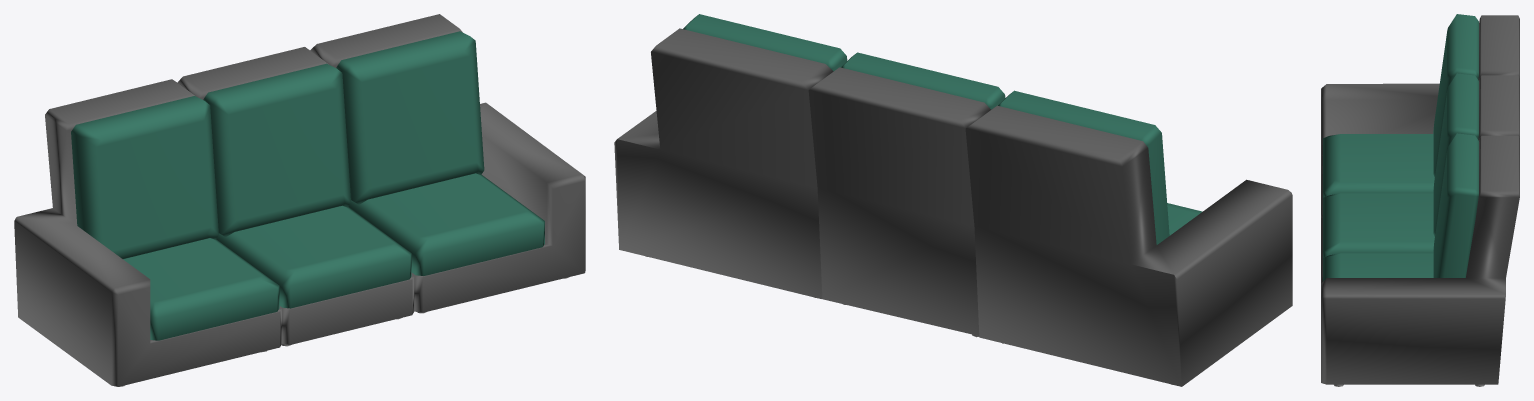
Rendered from mesh_sofa.fbx.
The picture shows the model from 3 angles, left to right: view 1: azimuth 30°, elevation 25°; view 2: azimuth 150°, elevation 25°; view 3: azimuth 270°, elevation 25°; orthographic projection. The views are drawn at different scales.
Parts seen in each view (by area): view 1: mesh_furniture_sofa_left_01, mesh_furniture_sofa_right_01, mesh_furniture_sofa_mid_01; view 2: mesh_furniture_sofa_left_01, mesh_furniture_sofa_right_01, mesh_furniture_sofa_mid_01; view 3: mesh_furniture_sofa_right_01, mesh_furniture_sofa_left_01, mesh_furniture_sofa_mid_01.
Part boxes in pixels (x1,y1,x2,y2): mesh_furniture_sofa_left_01: [14, 79, 281, 386]; mesh_furniture_sofa_right_01: [310, 14, 585, 313]; mesh_furniture_sofa_mid_01: [177, 47, 414, 346]; mesh_furniture_sofa_left_01: [965, 90, 1292, 386]; mesh_furniture_sofa_right_01: [614, 14, 847, 298]; mesh_furniture_sofa_mid_01: [808, 52, 1005, 337]; mesh_furniture_sofa_right_01: [1321, 133, 1519, 386]; mesh_furniture_sofa_left_01: [1321, 14, 1519, 217]; mesh_furniture_sofa_mid_01: [1321, 73, 1519, 277].
Bounding box in the file's own units: 88.49 × 35.76 × 34.9.
